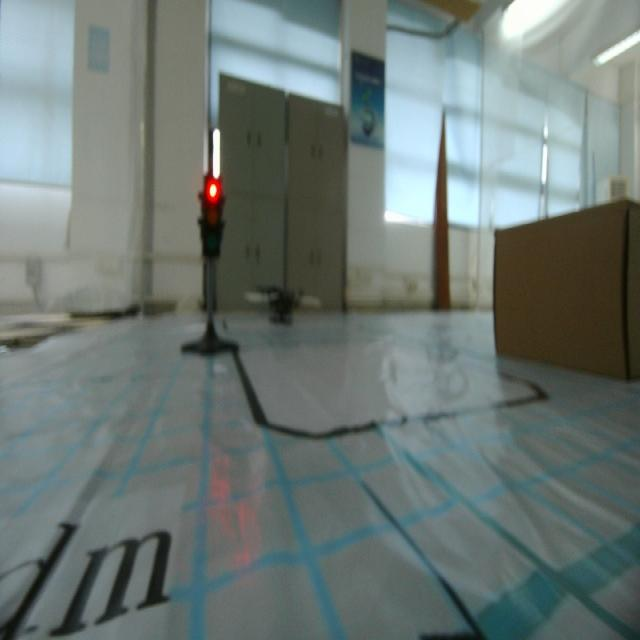red: (198, 172, 226, 267)
